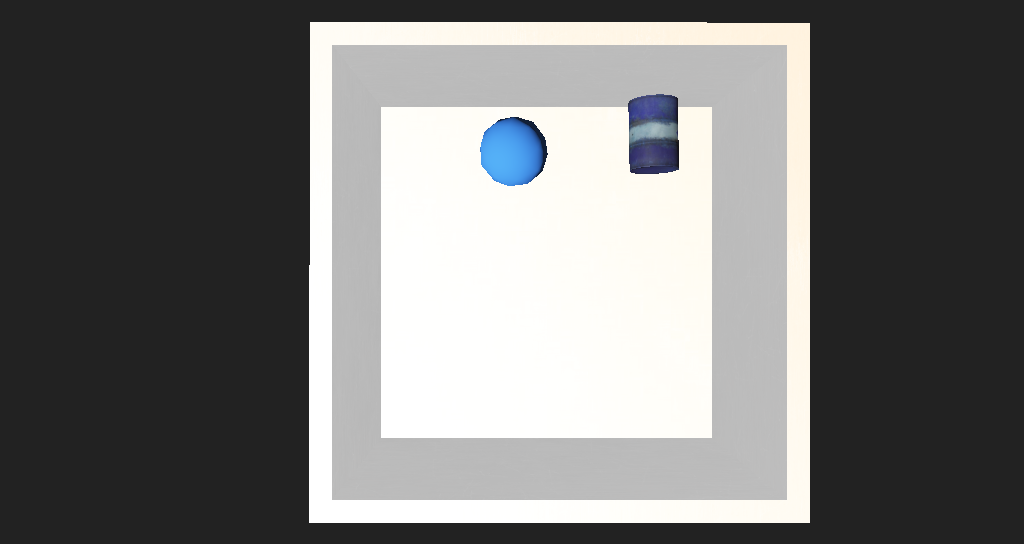cone: (583, 155, 630, 208)
sphere: (448, 167, 509, 215)
